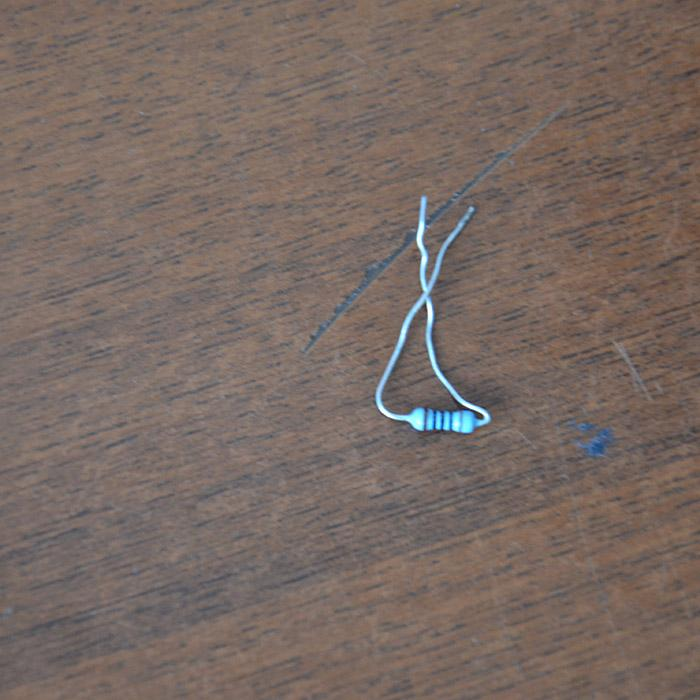resistor: (408, 407, 483, 433)
